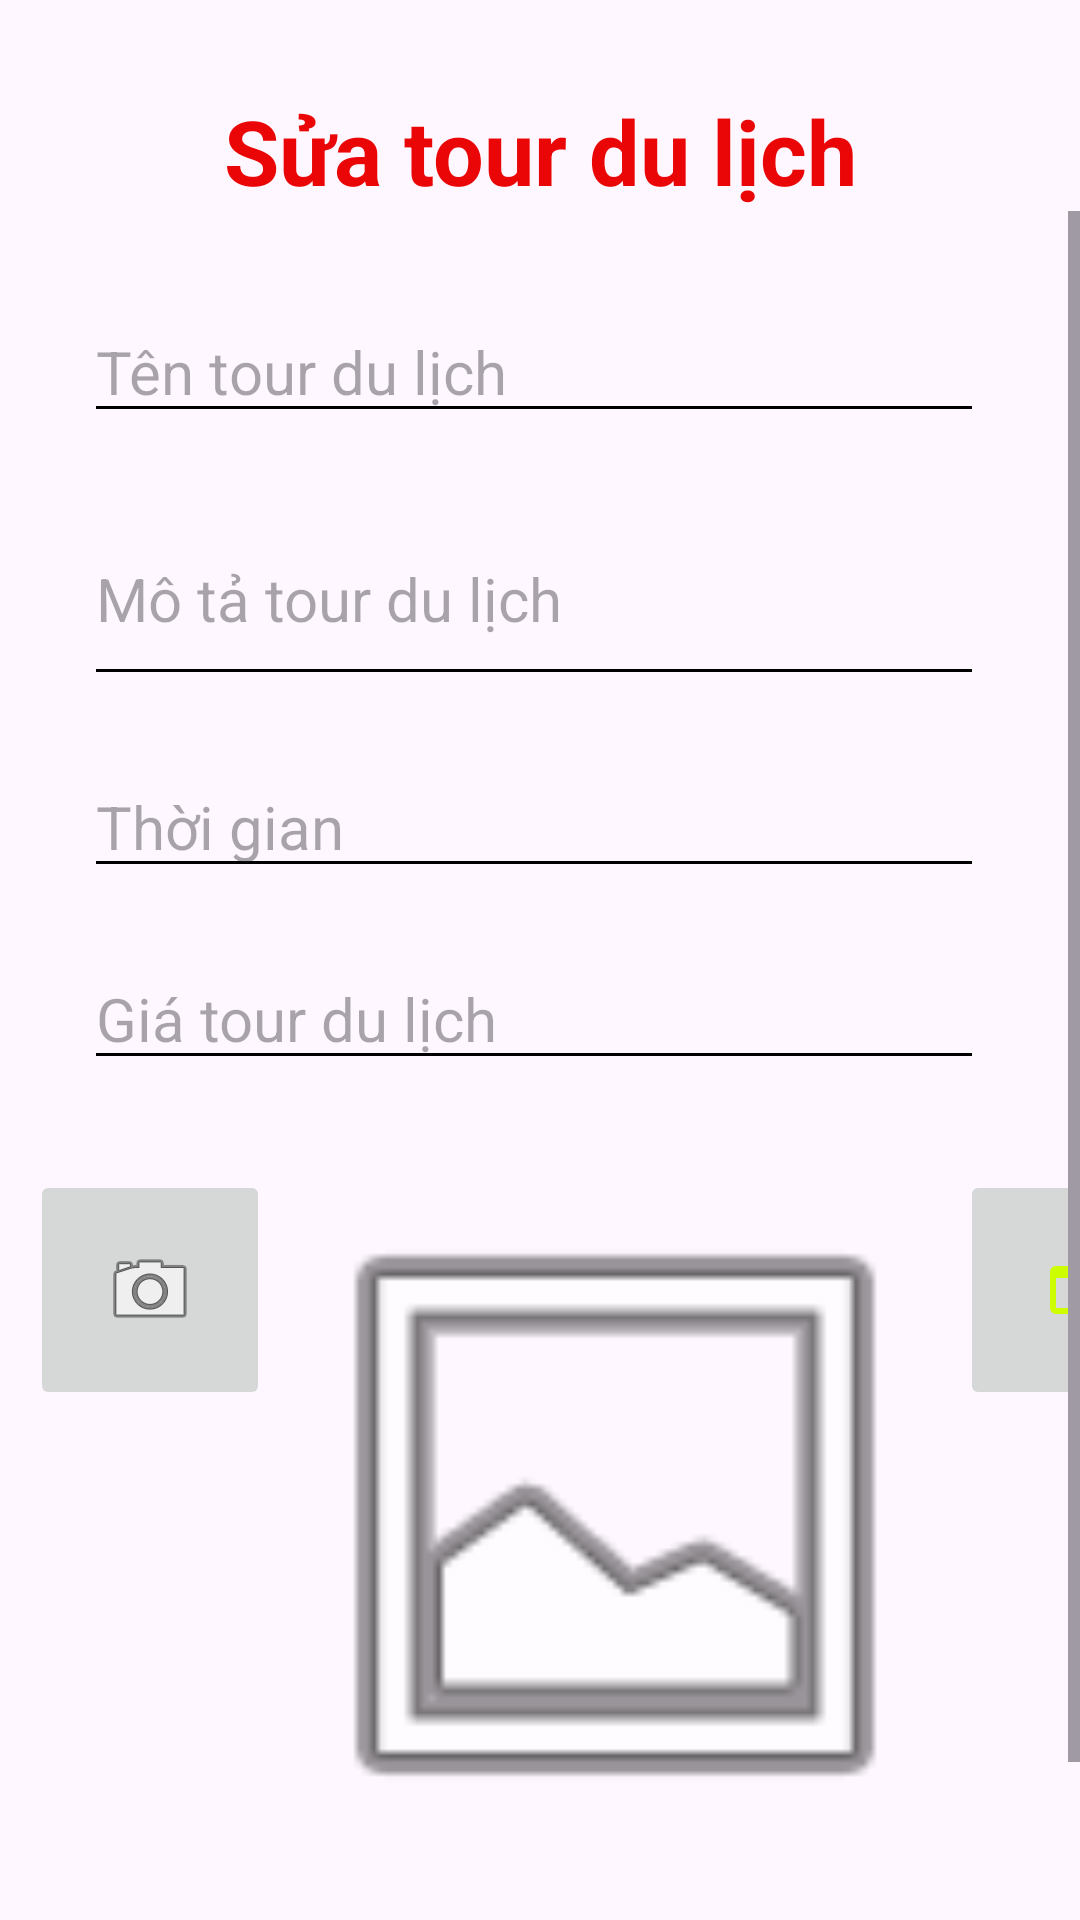

Where icons sit on this 1080×1920 app screen, as {"x1": x1, "y1": y1, "x2": x2, "y2": y2}:
camera: {"x1": 42, "y1": 1188, "x2": 258, "y2": 1392}
